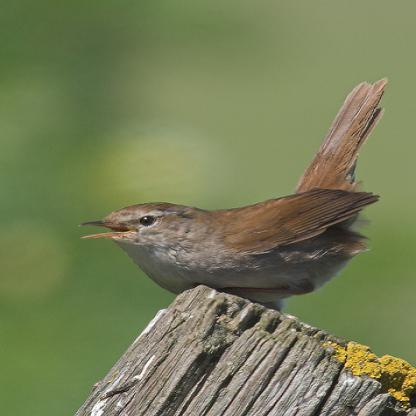bird: (78, 76, 389, 313)
